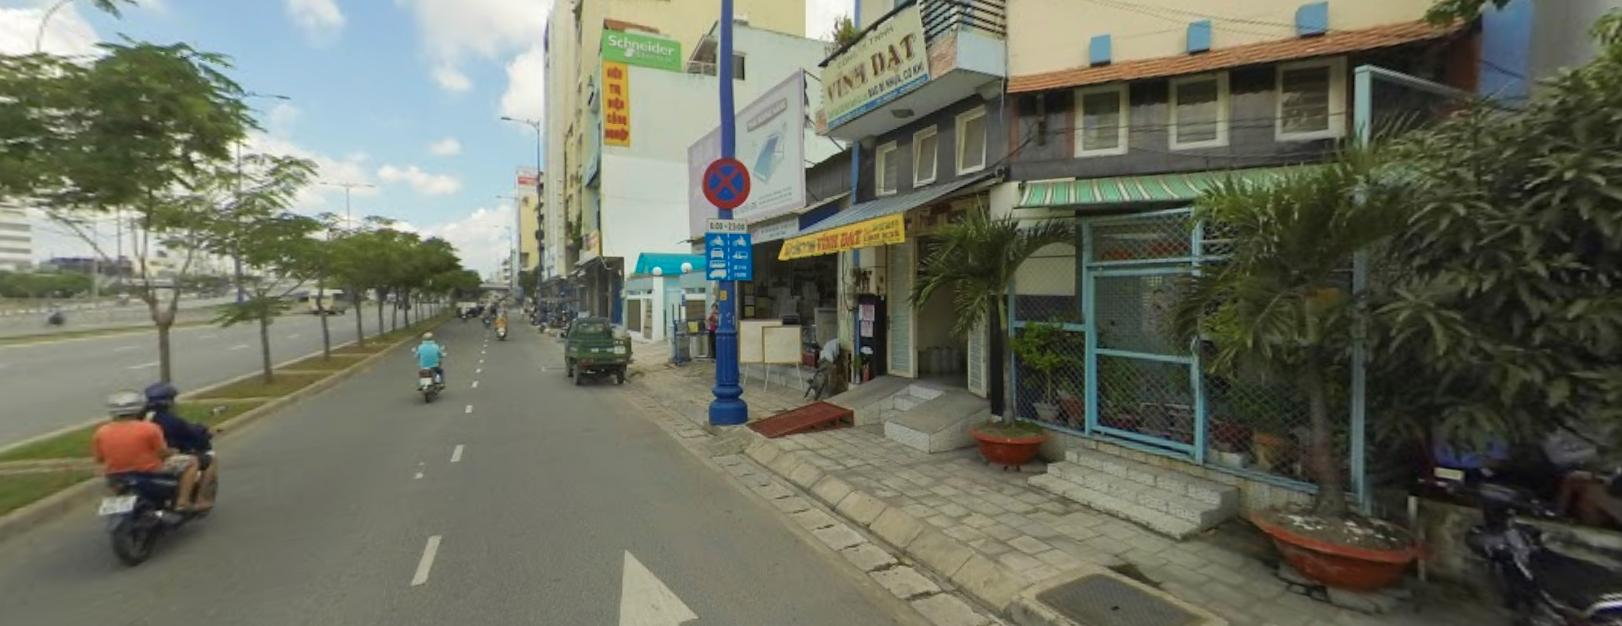Cam dung va do: (702, 156, 750, 209)
